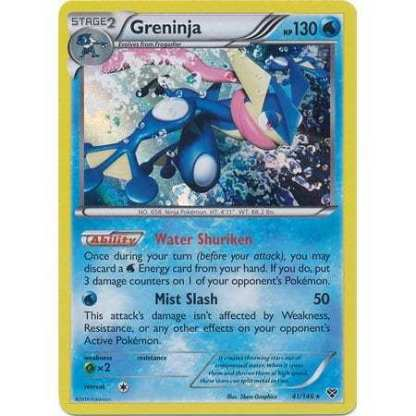greninja: (81, 47, 328, 207)
